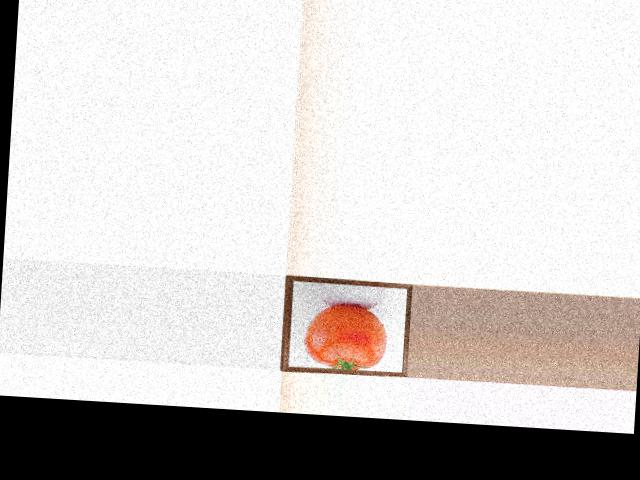tomato: (302, 301, 388, 372)
